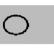no answer: (3, 11, 34, 38)
